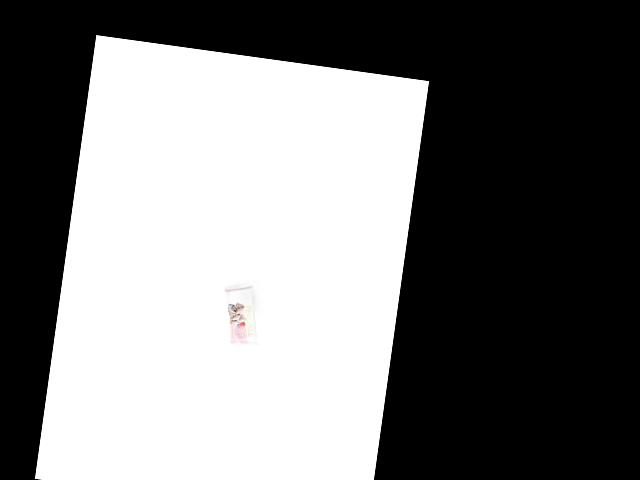chocolate: (215, 283, 265, 346)
